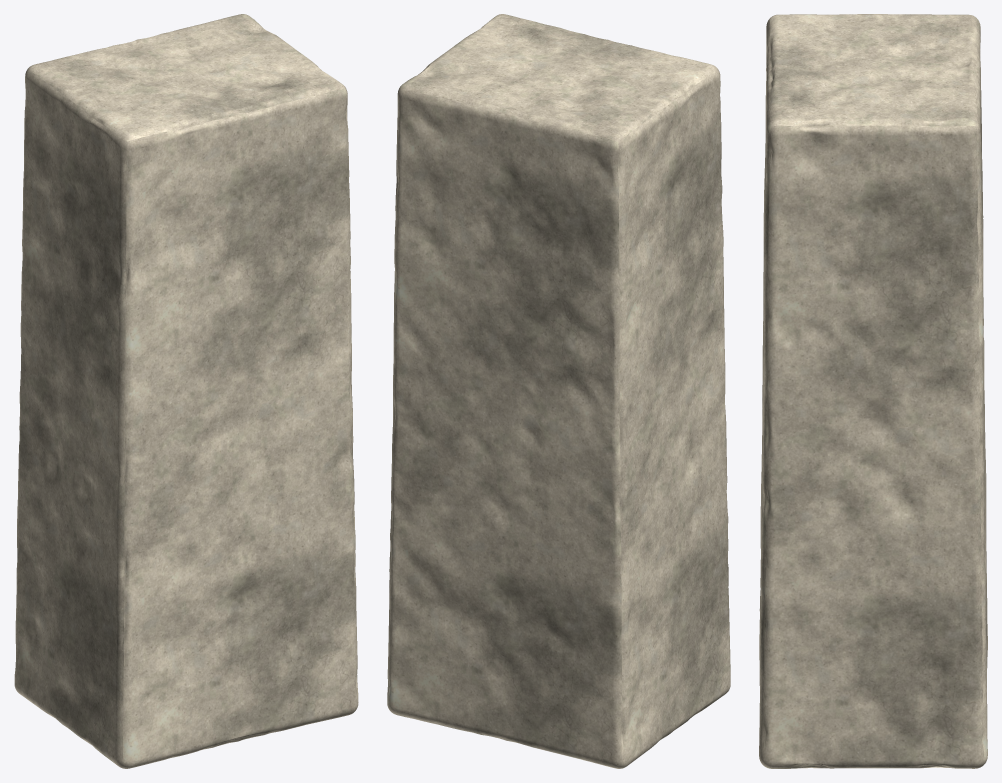
File: stone_pillar.glb
The picture shows the model from 3 angles, left to right: view 1: azimuth 30°, elevation 25°; view 2: azimuth 150°, elevation 25°; view 3: azimuth 270°, elevation 25°; orthographic projection. The views are drawn at different scales.
Parts seen in each view (by area): view 1: stone_pillar; view 2: stone_pillar; view 3: stone_pillar.
Boxes of the visible parts, x1,y1,x2,y2 form: stone_pillar: [14, 14, 358, 768]; stone_pillar: [387, 14, 730, 768]; stone_pillar: [759, 14, 987, 768].
Size of the model in its own units: 1 by 2.5 by 0.8039.
Materials: 1 (1 with a texture image).
